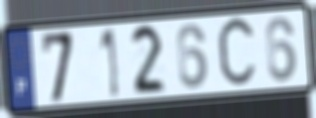1: (98, 26, 121, 100)
2: (129, 22, 169, 98)
6: (175, 22, 211, 91), (264, 15, 300, 84)
7: (40, 30, 75, 105)
C: (215, 12, 259, 94)
